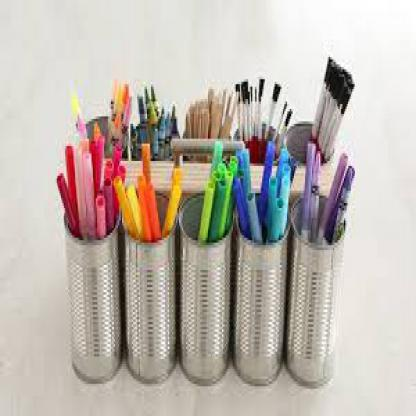METAL: (286, 193, 338, 384), (64, 220, 123, 384), (179, 200, 229, 384), (232, 225, 286, 384), (123, 228, 175, 381)
